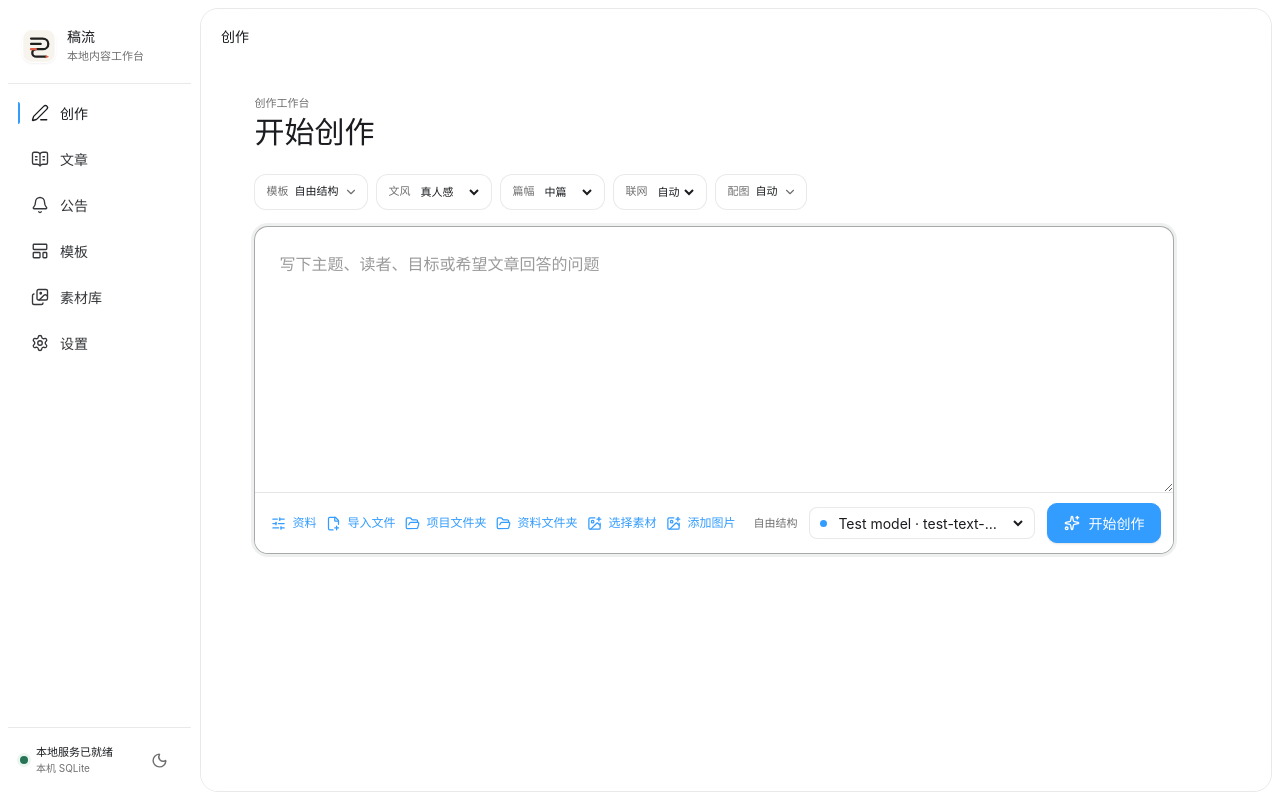
Test: desktop product flow › uses Pi for creation and commits its completed Markdown to the canonical article store
Click the button "配图 自动": [761, 192] box x1=715 y1=174 x2=807 y2=210
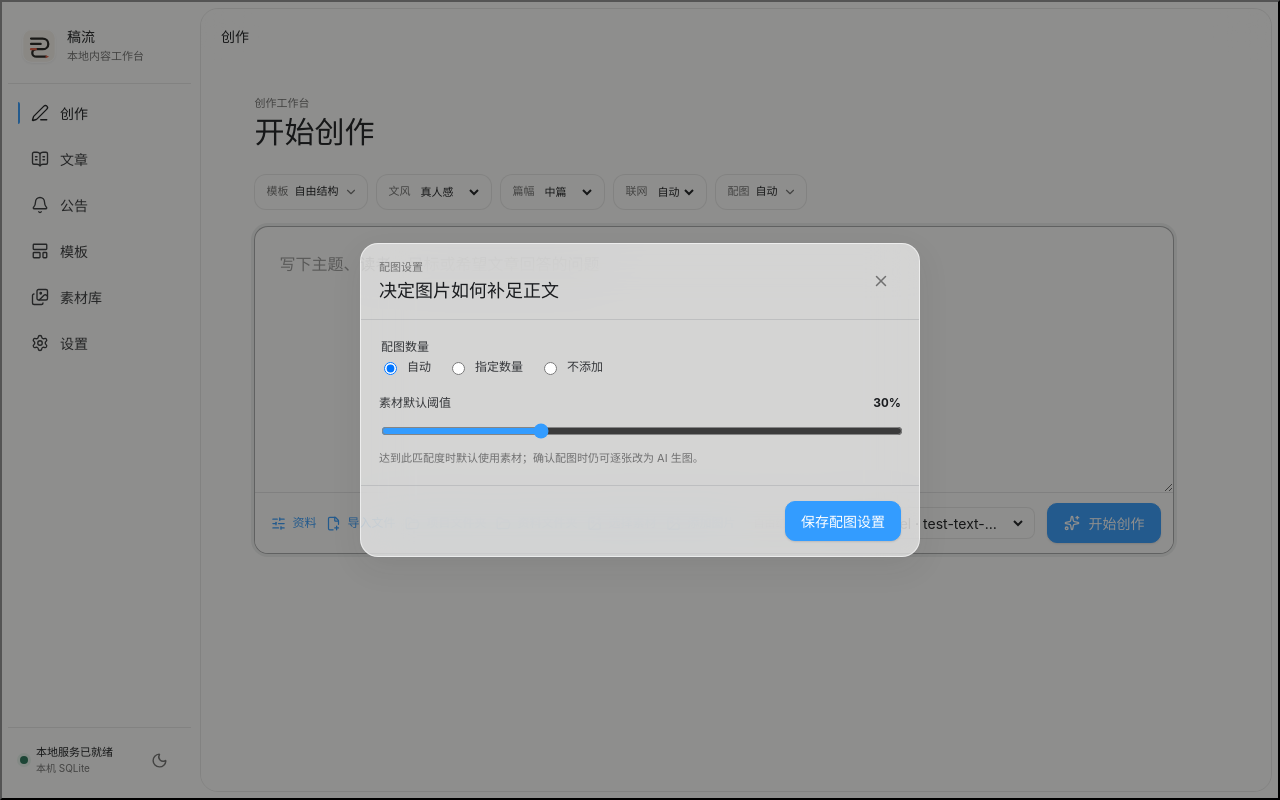
Click the radio button labelled "不添加": [550, 369] box x1=544 y1=362 x2=557 y2=375
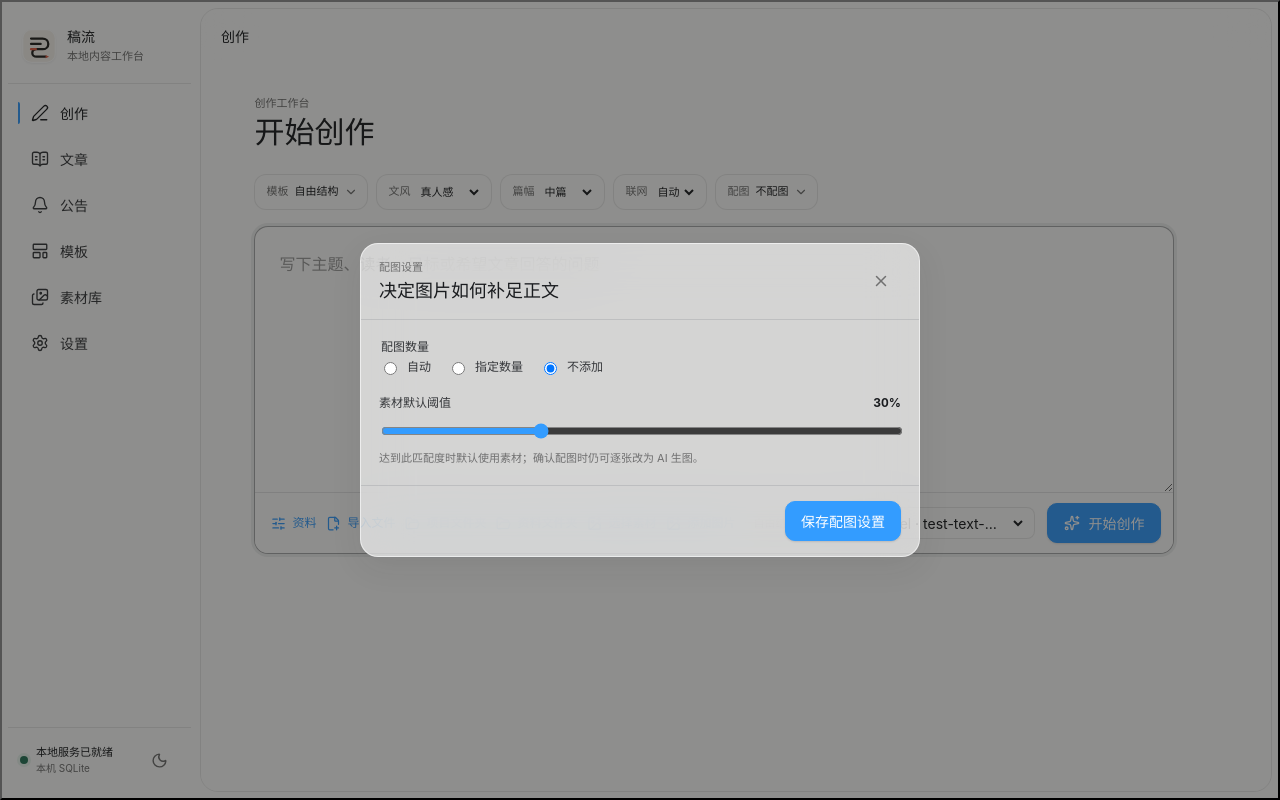
Click the button "保存配图设置": [843, 521] box x1=785 y1=501 x2=901 y2=541
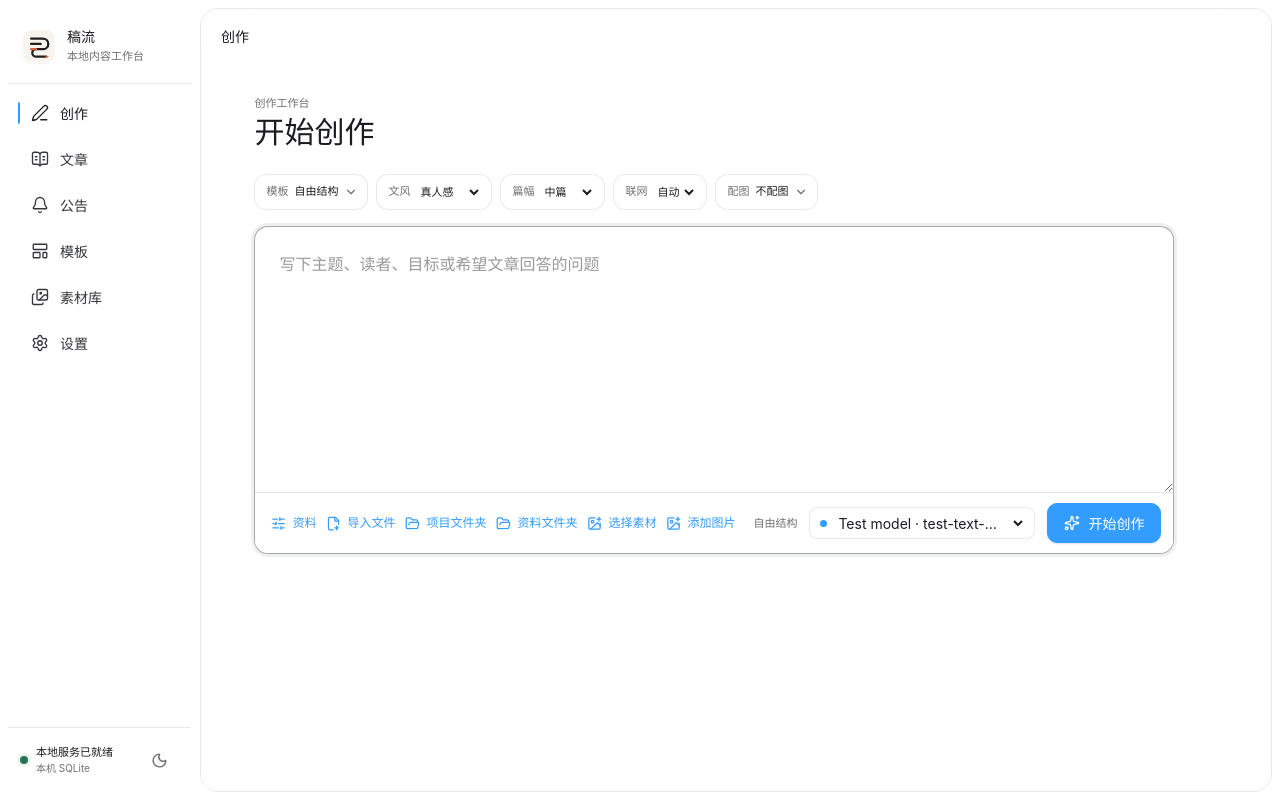
In the text box named "文章主题": [714, 359] box x1=255 y1=226 x2=1173 y2=492, type "Pi Runtime 写作迁移"
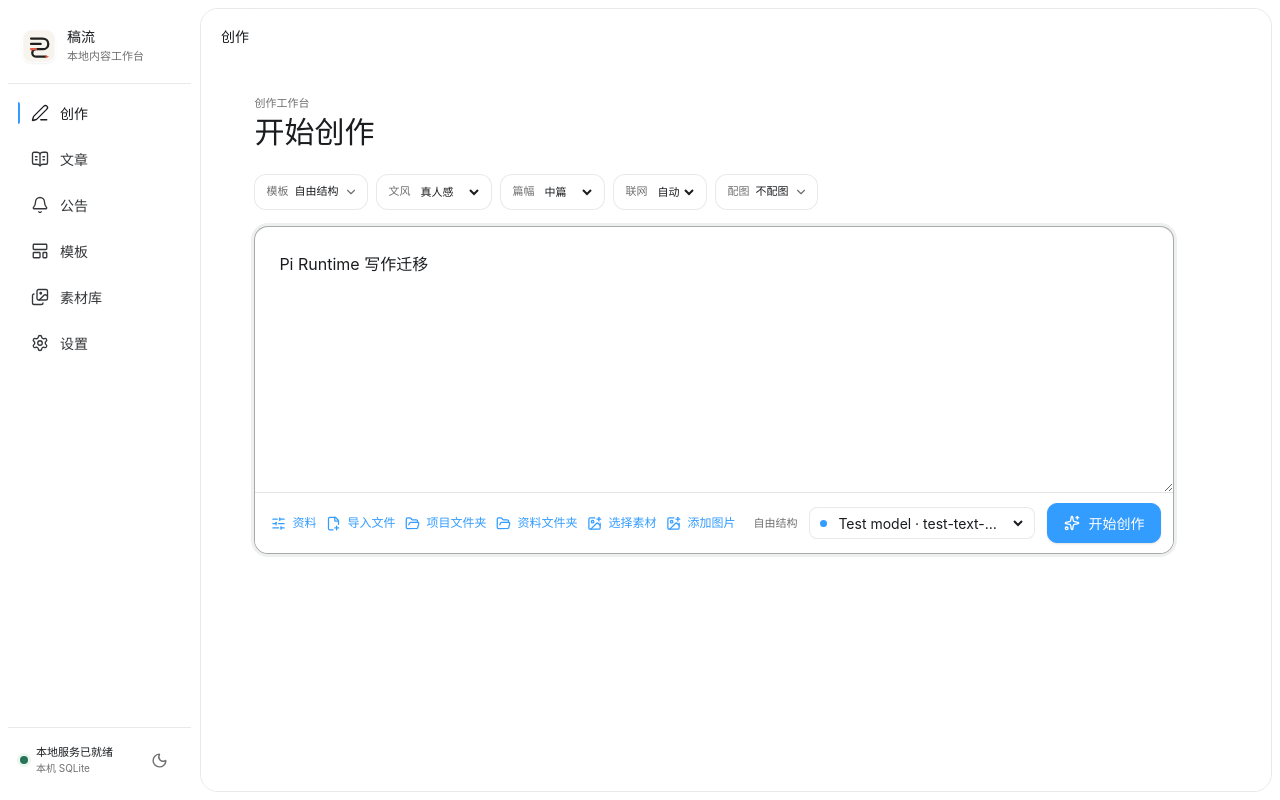
Click the button "开始创作": [1104, 523] box x1=1047 y1=503 x2=1161 y2=543
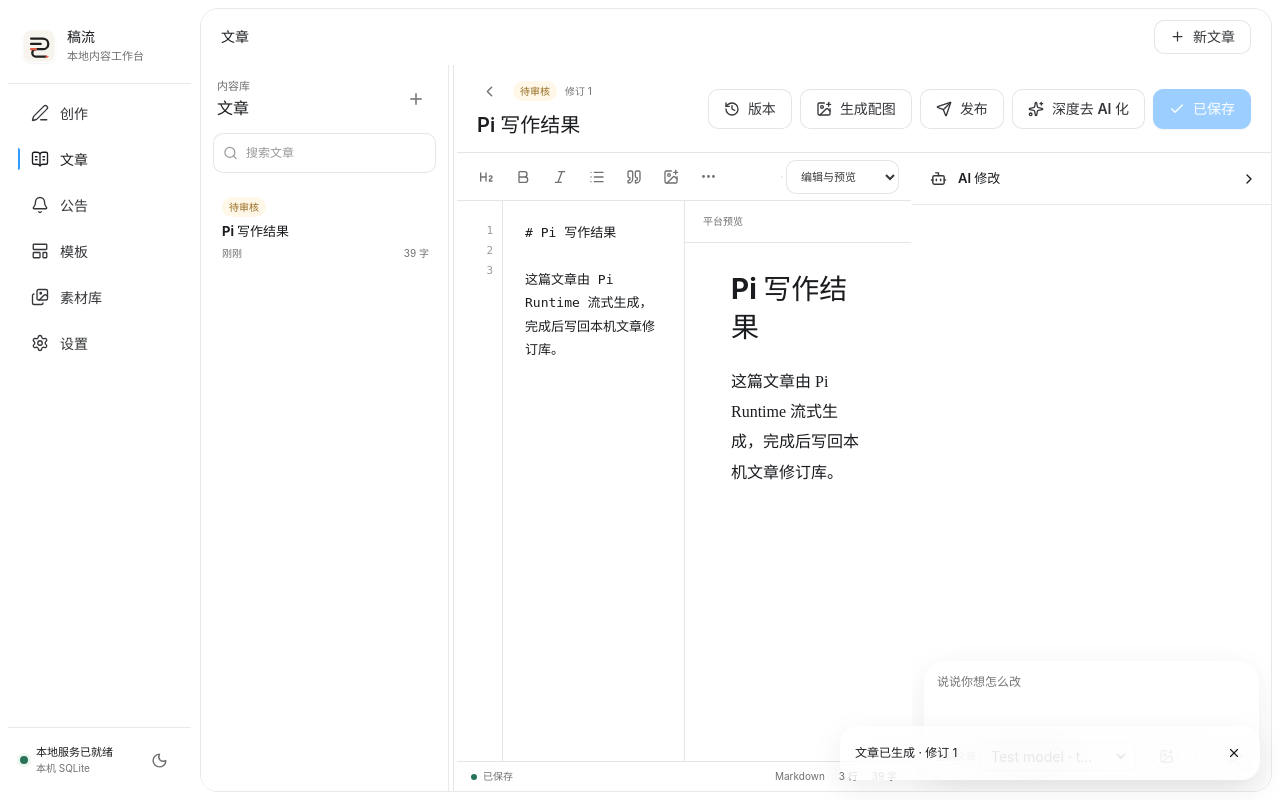
Expected: the text "文章已生成 · 修订 1" is shown, x1=855 y1=745 x2=958 y2=760
